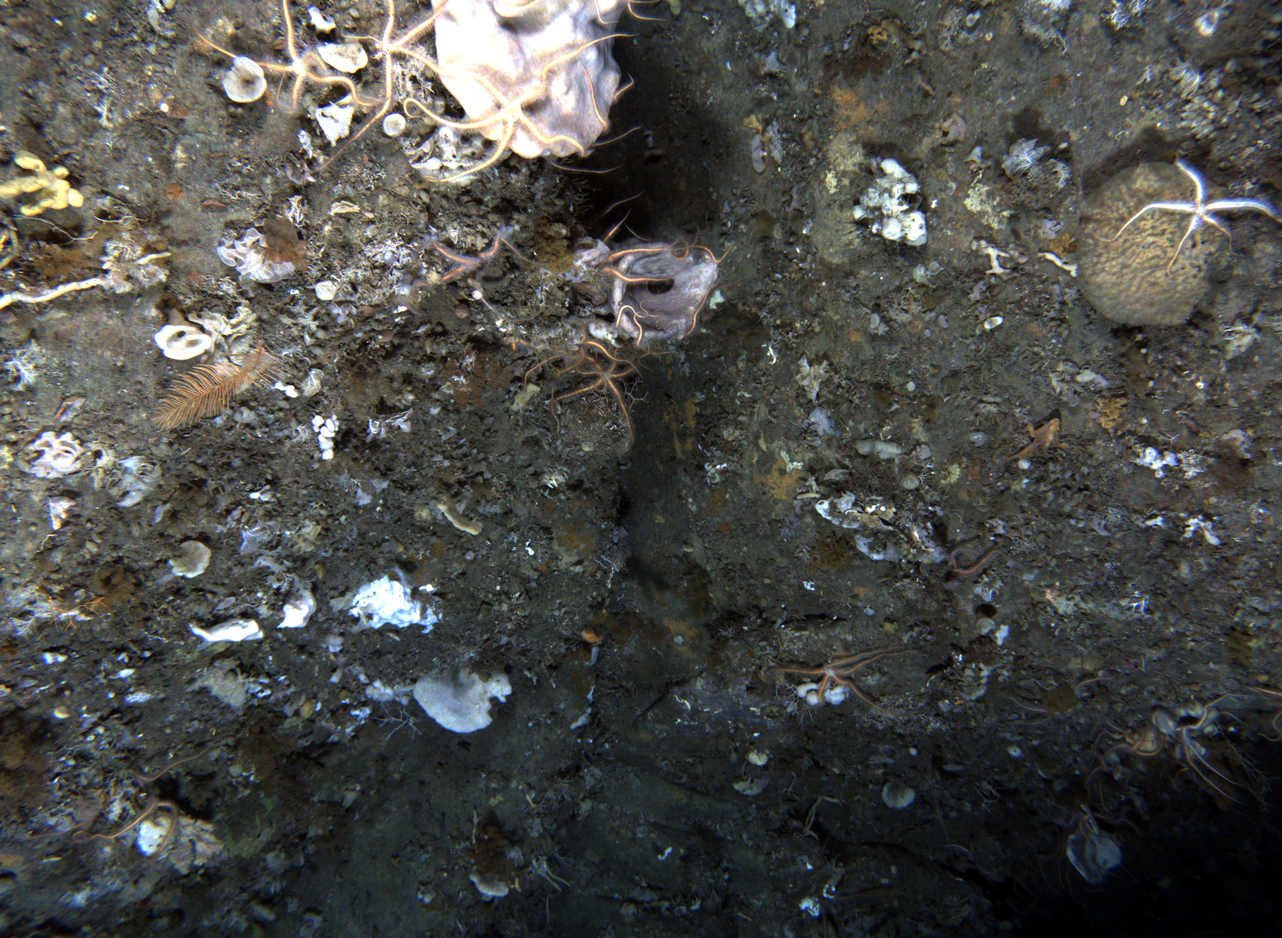Brachionichthyidae: (1002, 417, 1071, 463)
